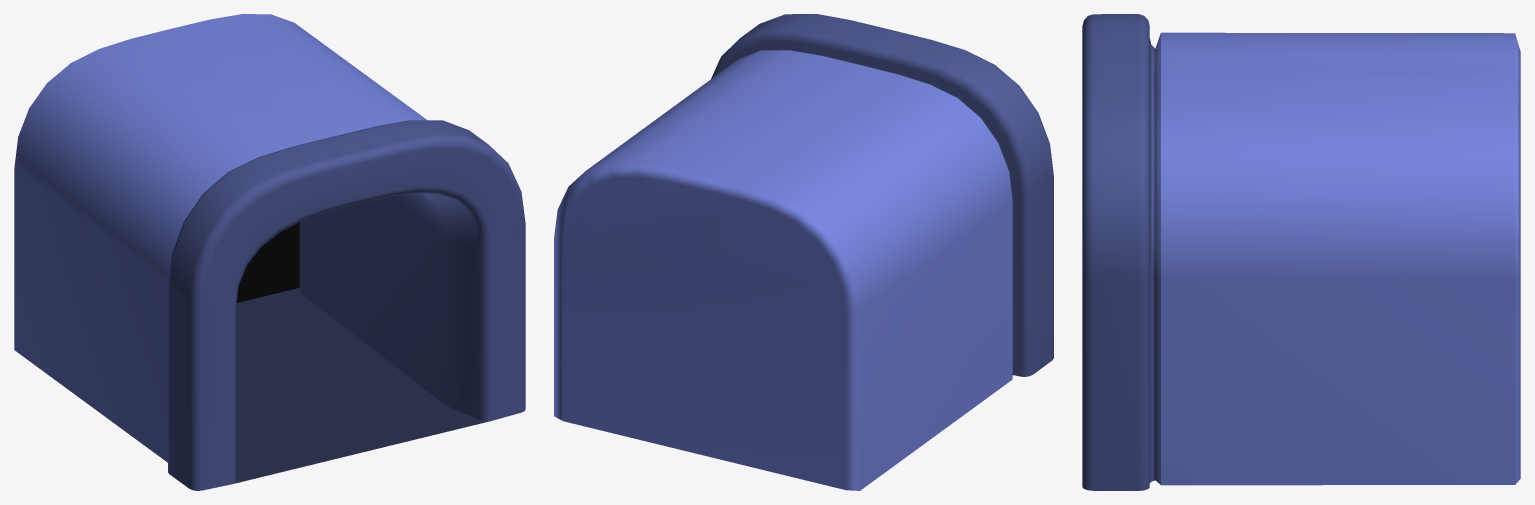
Rendered from Tunnel.fbx.
3 views of the same model, side by side, from view 1: azimuth 30°, elevation 25°; view 2: azimuth 150°, elevation 25°; view 3: azimuth 270°, elevation 25° (orthographic). The views are drawn at different scales.
Visible parts, largest first — view 1: Tunnel; view 2: Tunnel; view 3: Tunnel.
Part boxes in pixels (x1,y1,x2,y2): Tunnel: (14,14,525,490); Tunnel: (554,14,1053,490); Tunnel: (1082,14,1520,490).
Bounding box in the file's own units: 386 × 329 × 386.
